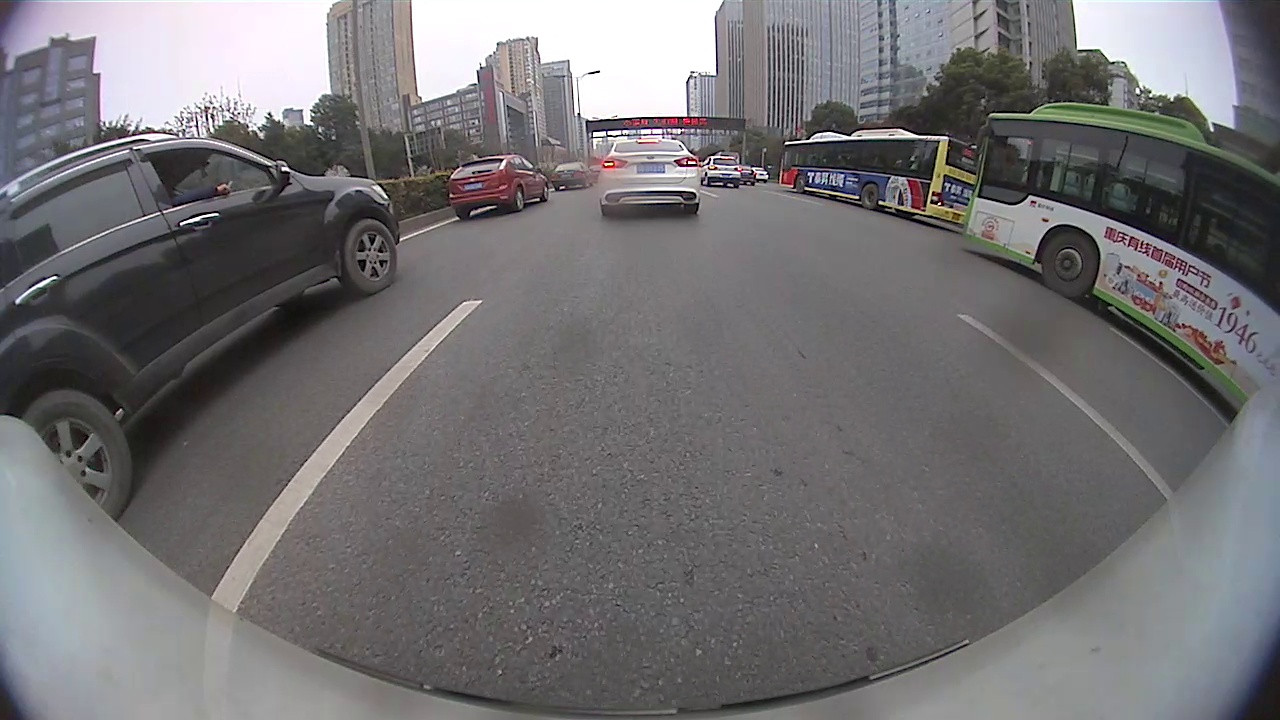bus: (961, 100, 1279, 416), (776, 127, 982, 228)
car: (1, 131, 403, 525), (594, 135, 704, 221), (446, 153, 552, 223), (701, 152, 745, 186), (551, 159, 592, 192)
front: (1037, 231, 1097, 302), (345, 218, 401, 290), (795, 175, 810, 195)
rear: (16, 388, 133, 528), (859, 182, 879, 208), (514, 188, 529, 212)
